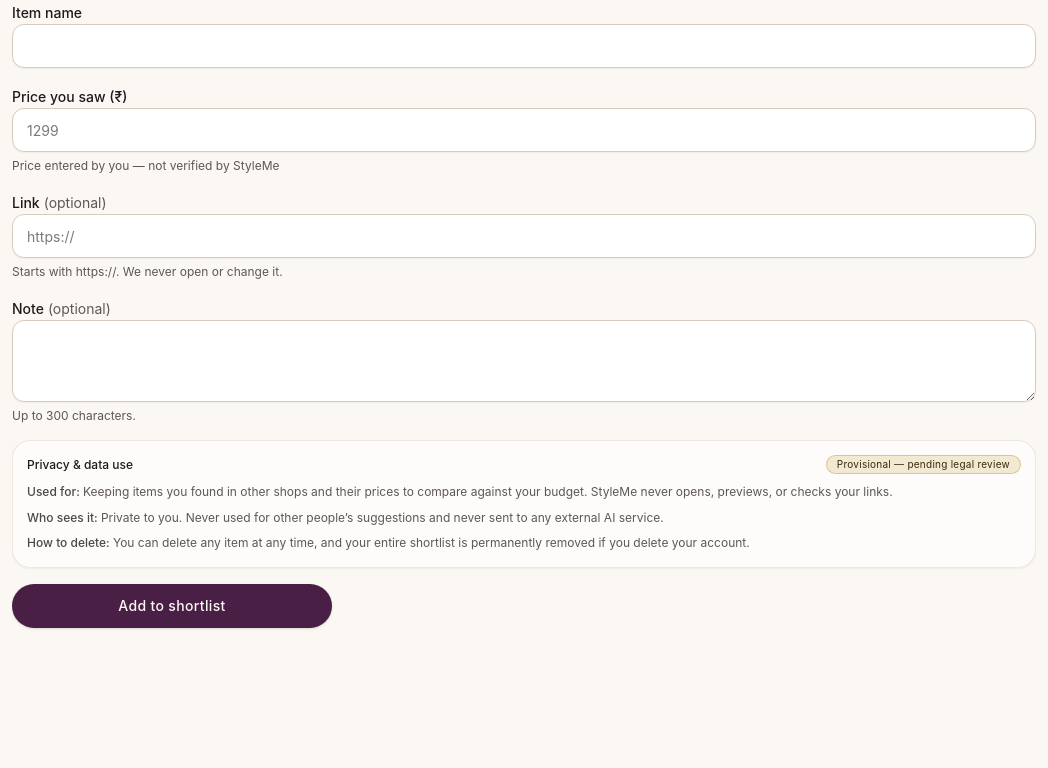
Test: add an item you found (FR-LIST-01) › sends the typed values to the action and clears the form once the item is added
Type "Indigo cotton kurta" into the field labelled "Item name" at coordinates (524, 46), box [12,24,1036,68]
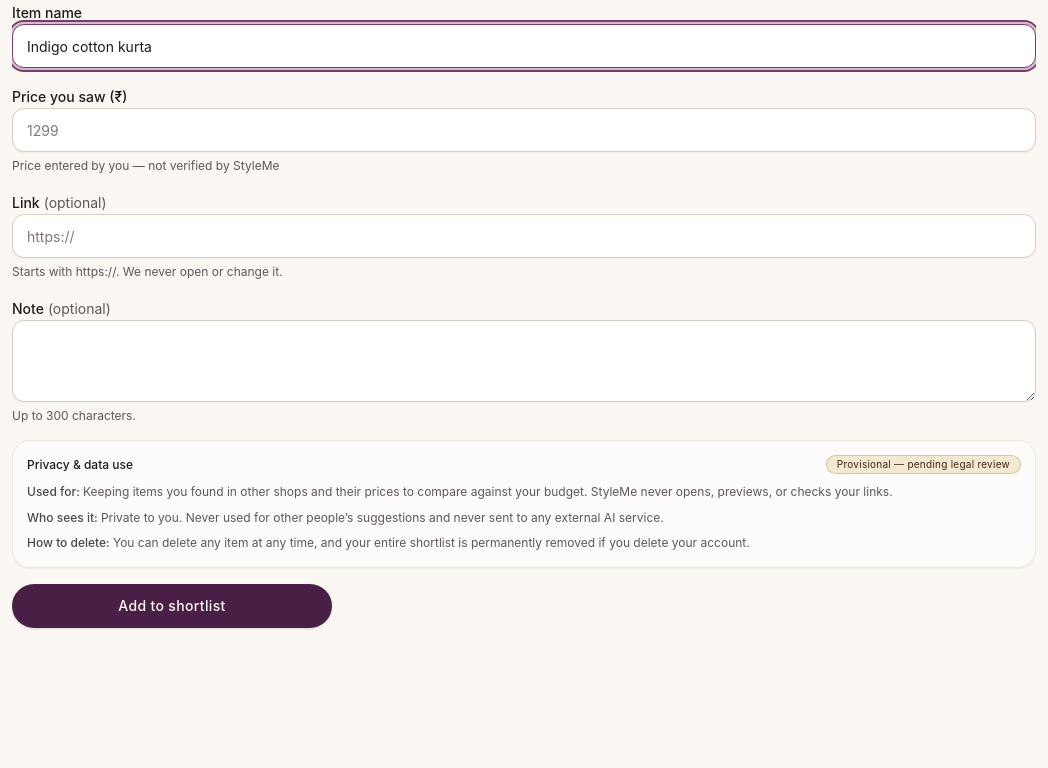
Type "1,299.50" into the field labelled "Price you saw (₹)" at coordinates (524, 130), box [12,108,1036,152]
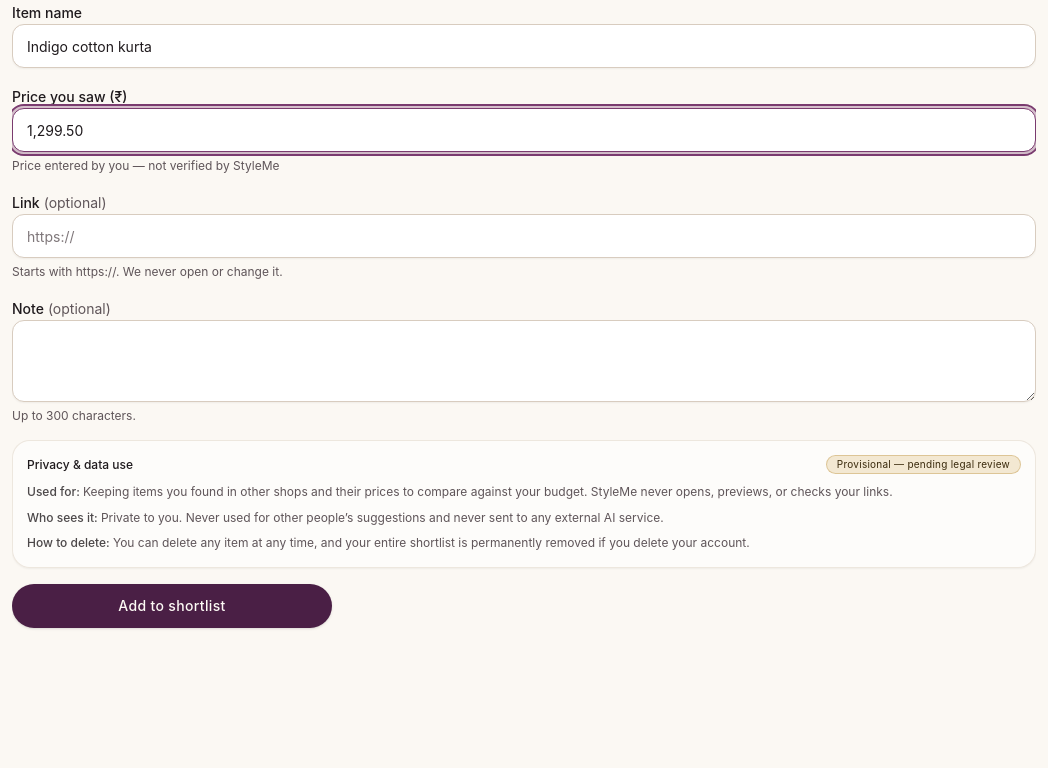
Type "https://Shop.example/kurtas/Indigo-Kurta?utm_source=friend&ref=abc#details" into the field labelled "Link(optional)" at coordinates (524, 236), box [12,214,1036,258]
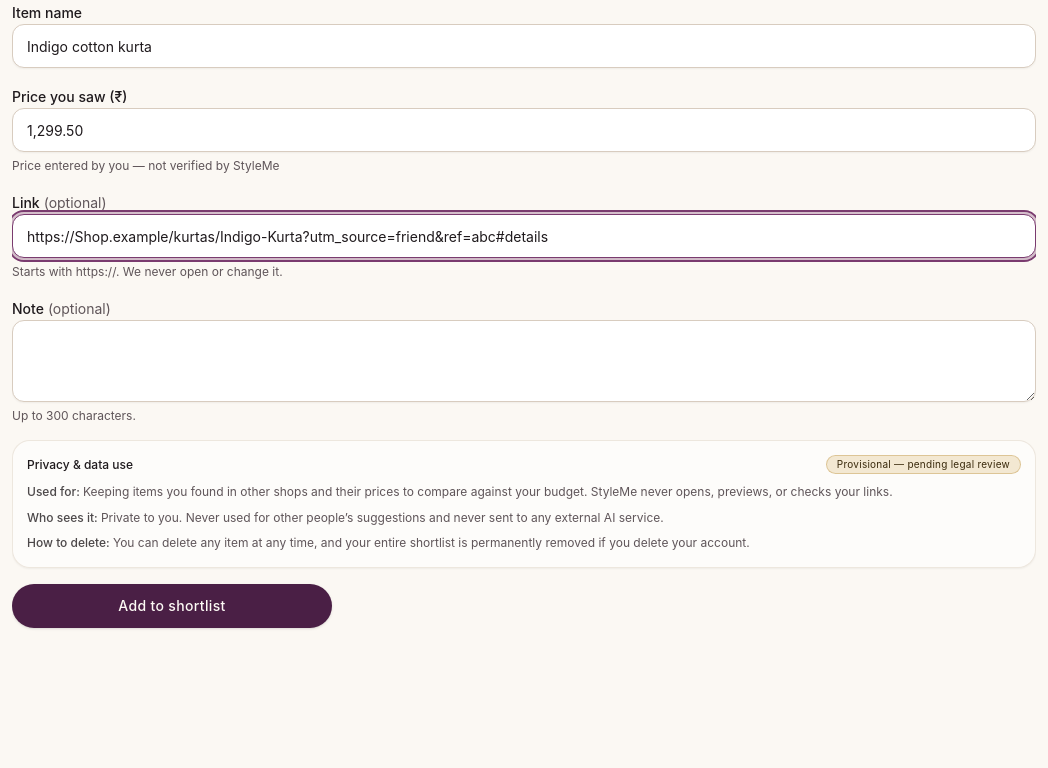
Type "Ask about the dupatta" into the text box labelled "Note(optional)" at coordinates (524, 361), box [12,320,1036,402]
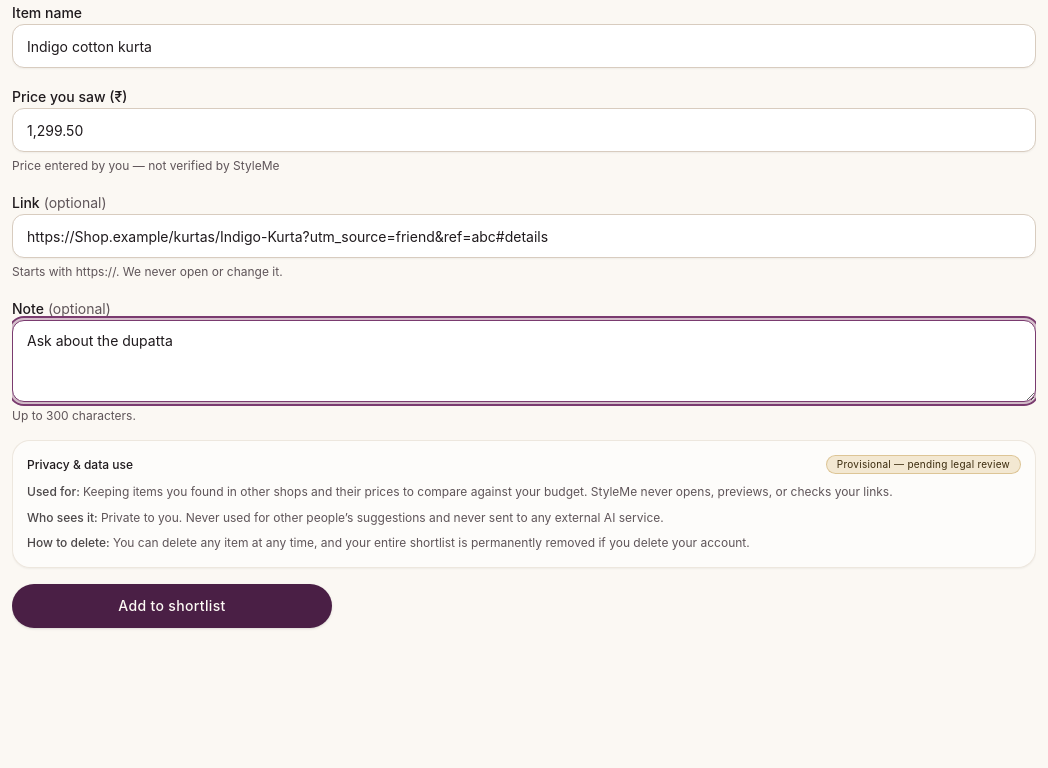
Click the button "Add to shortlist" at coordinates (172, 606), box [12,584,332,628]
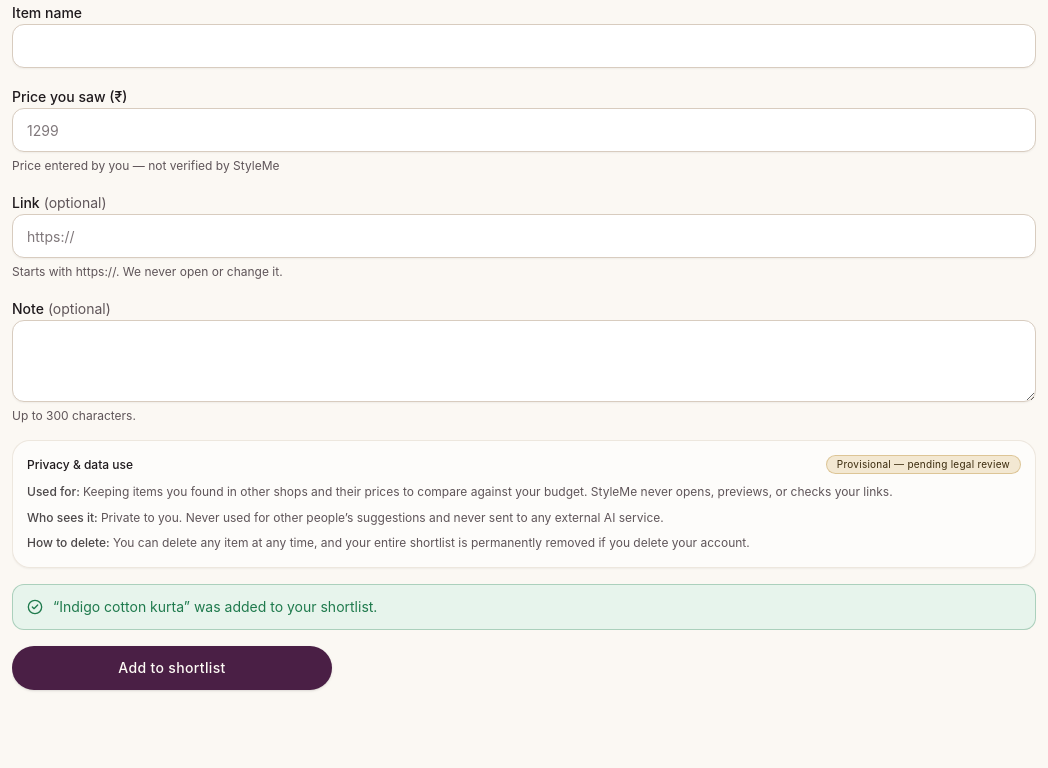
Expected: the message shows "was added to your shortlist", [53,598,377,615]
Expected: the field labelled "Item name" is empty, [12,24,1036,68]
Expected: the field labelled "Link(optional)" is empty, [12,214,1036,258]
